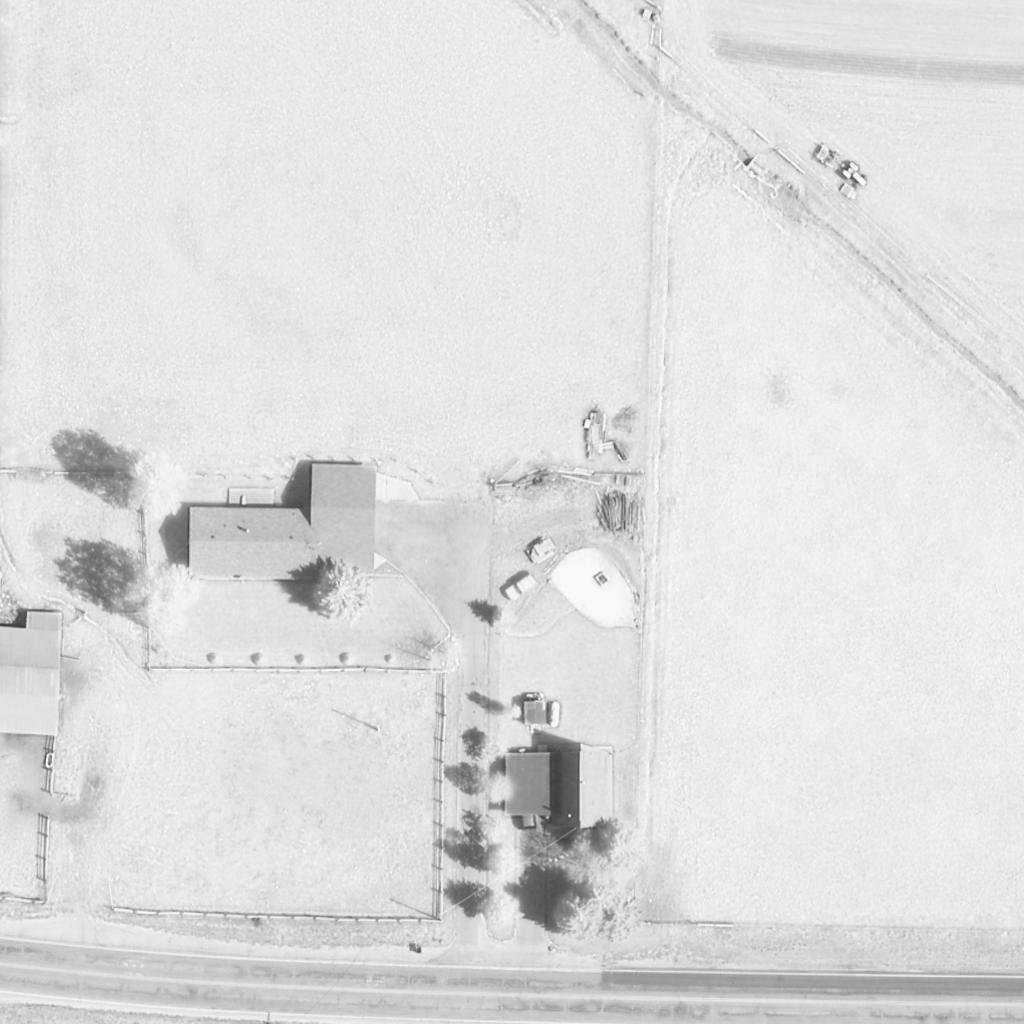vehicle: (838, 158, 874, 194), (512, 782, 538, 830), (504, 573, 542, 603)
